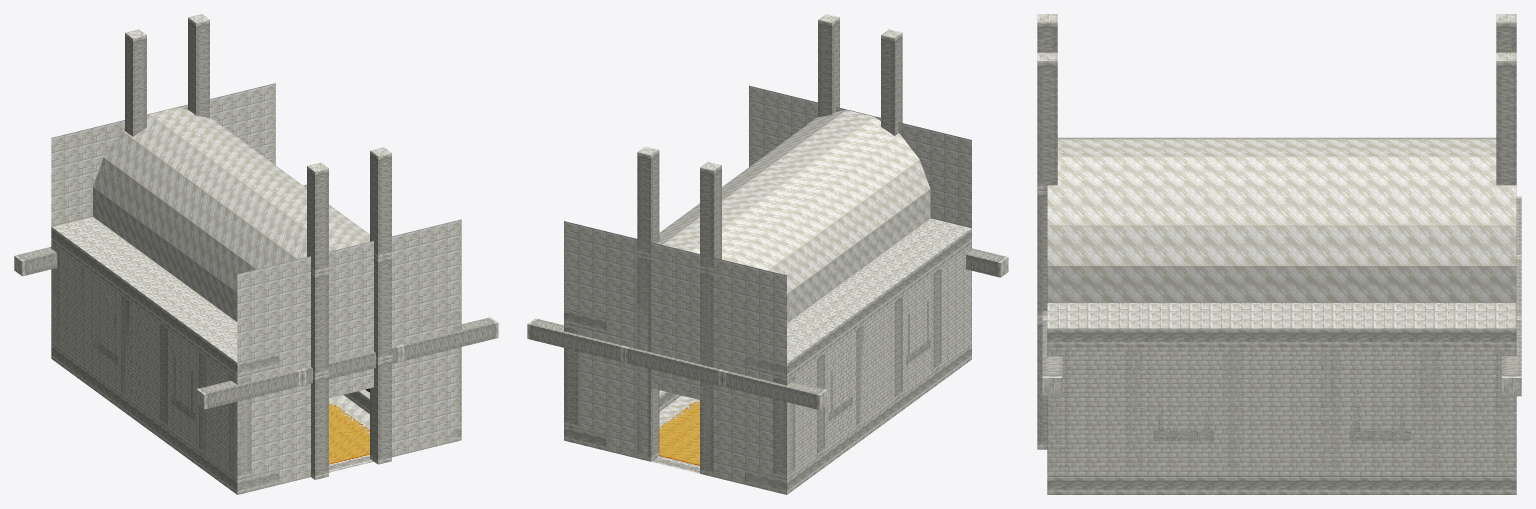
Rendered from envy_1_0.fbx.
The picture shows the model from 3 angles, left to right: view 1: azimuth 30°, elevation 25°; view 2: azimuth 150°, elevation 25°; view 3: azimuth 270°, elevation 25°; orthographic projection. The views are drawn at different scales.
Visible parts, largest first — view 1: cube_16, cylinder, cube_5, cube_23, cube_17, cube_26, cube_2, cube_45, cube_43, cube_50, cube_49, cube_40 (+11 smaller); view 2: cube_17, cylinder, cube_5, cube_23, cube_16, cube_26, cube_2, cube_49, cube_50, cube_45, cube_43, cube_56 (+15 smaller); view 3: cylinder, cube_3, cube_21, cube_18, cube_43, cube_49, cube_32, cube_29, cube_33, cube_42, cube_30, cube_22 (+8 smaller).
Boxes of the visible parts, x1,y1,x2,y2 form: cube_16: (237,219,461,494); cylinder: (93,107,369,321); cube_5: (51,241,237,479); cube_23: (51,216,279,377); cube_17: (51,83,275,226); cube_26: (51,344,279,494); cube_2: (329,395,373,472); cube_45: (307,162,328,274); cube_43: (370,147,391,258); cube_50: (125,29,146,136); cube_49: (188,14,209,117); cube_40: (370,358,391,464); cube_17: (564,221,786,494); cylinder: (656,110,930,322); cube_5: (787,243,971,479); cube_23: (745,218,971,378); cube_16: (749,85,971,228); cube_26: (745,345,971,494); cube_2: (651,395,699,473); cube_49: (637,146,659,257); cube_50: (700,162,721,272); cube_45: (881,29,902,135); cube_43: (818,14,839,117); cube_56: (722,370,827,409); cylinder: (1047,137,1516,302); cube_3: (1047,347,1516,476); cube_21: (1047,303,1516,346); cube_18: (1047,476,1516,494); cube_43: (1037,52,1057,190); cube_49: (1496,52,1516,185); cube_32: (1223,347,1243,476); cube_29: (1320,347,1340,476); cube_33: (1124,347,1144,476); cube_42: (1037,191,1047,320); cube_30: (1419,347,1440,476); cube_22: (1047,347,1067,476).
Size of the model in its own units: 2100 by 2100 by 2375.
Materials: 3 (3 with a texture image).
